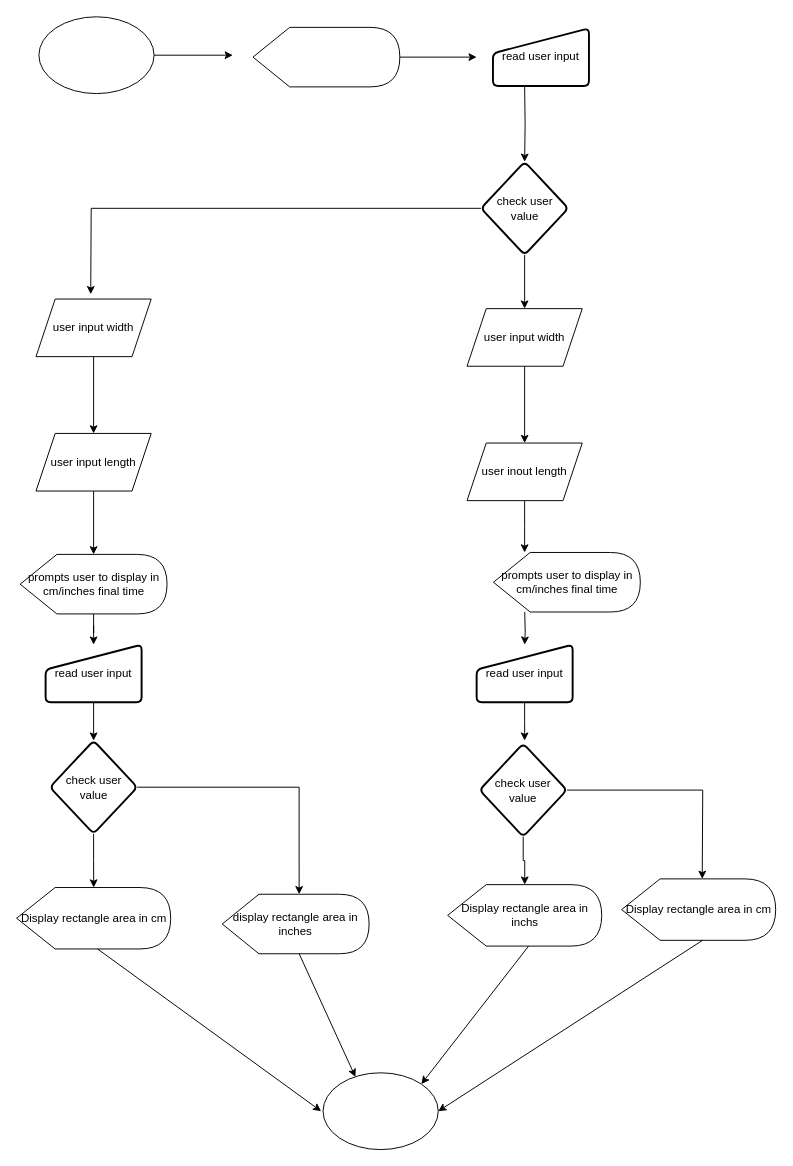
This 793x1166 diagram has some shape labels left out. The box of each missing label's shape, as (x1, y1, x2, y2) in pixels:
end: (322, 1072, 438, 1150)
prompts user to display in cm/inches: (252, 26, 400, 87)
start: (38, 16, 154, 94)
